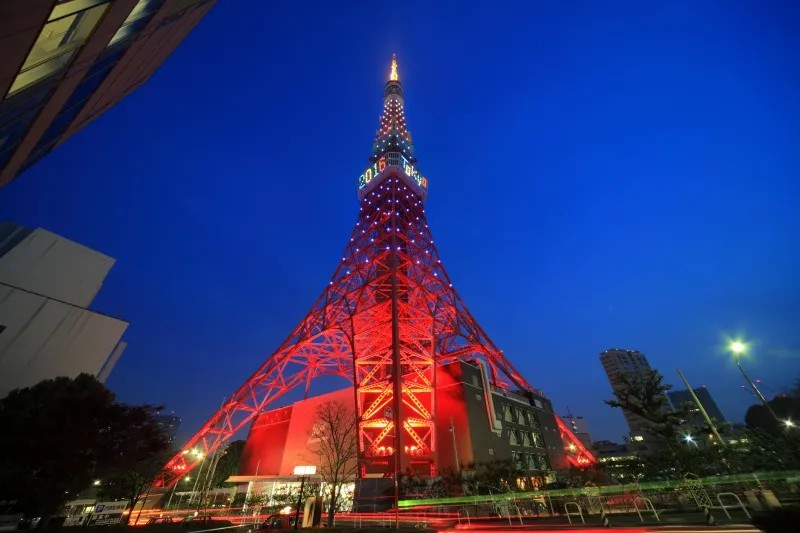Tokyo: (146, 50, 600, 495)
